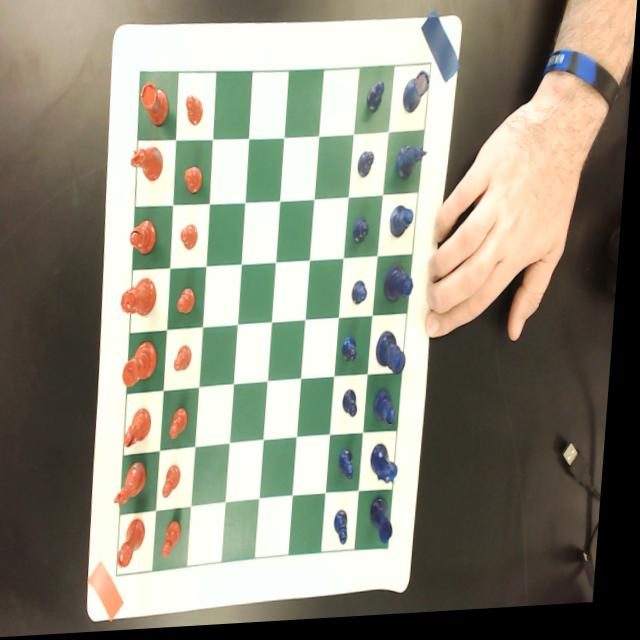B: (379, 392, 406, 432), (392, 209, 419, 245)
K: (381, 334, 413, 381)
N: (376, 447, 408, 492), (398, 148, 430, 185)
P: (341, 515, 360, 552), (344, 452, 364, 487), (366, 85, 386, 119), (359, 154, 379, 183), (348, 393, 366, 424), (356, 222, 374, 251), (347, 340, 365, 368), (356, 284, 373, 311)
Q: (388, 269, 420, 310)
R: (376, 502, 405, 550), (403, 75, 432, 120)
b: (131, 408, 159, 450), (133, 221, 161, 258)
k: (127, 342, 164, 391)
n: (120, 461, 157, 513), (131, 148, 167, 185)
p: (167, 519, 193, 562), (170, 467, 190, 503), (176, 409, 196, 444), (186, 166, 207, 198), (186, 96, 206, 129), (180, 289, 201, 318), (183, 225, 203, 254), (179, 347, 198, 375)
q: (124, 280, 162, 320)
r: (125, 519, 156, 573), (140, 83, 173, 131)
